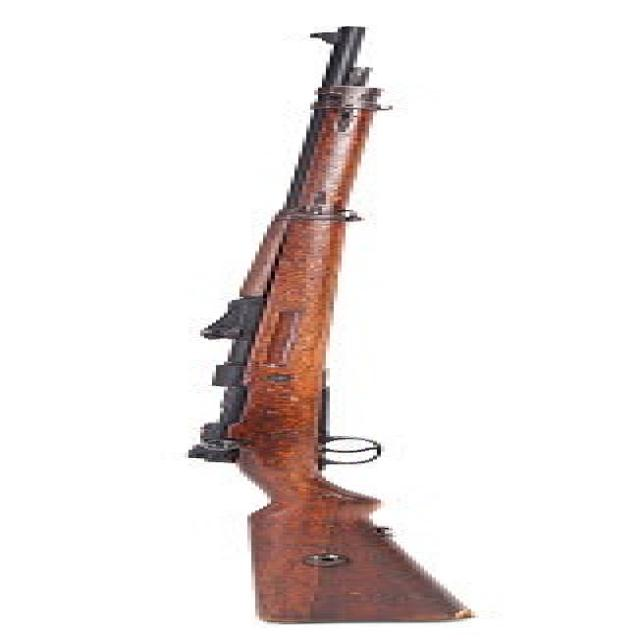rifle: (169, 18, 515, 630)
